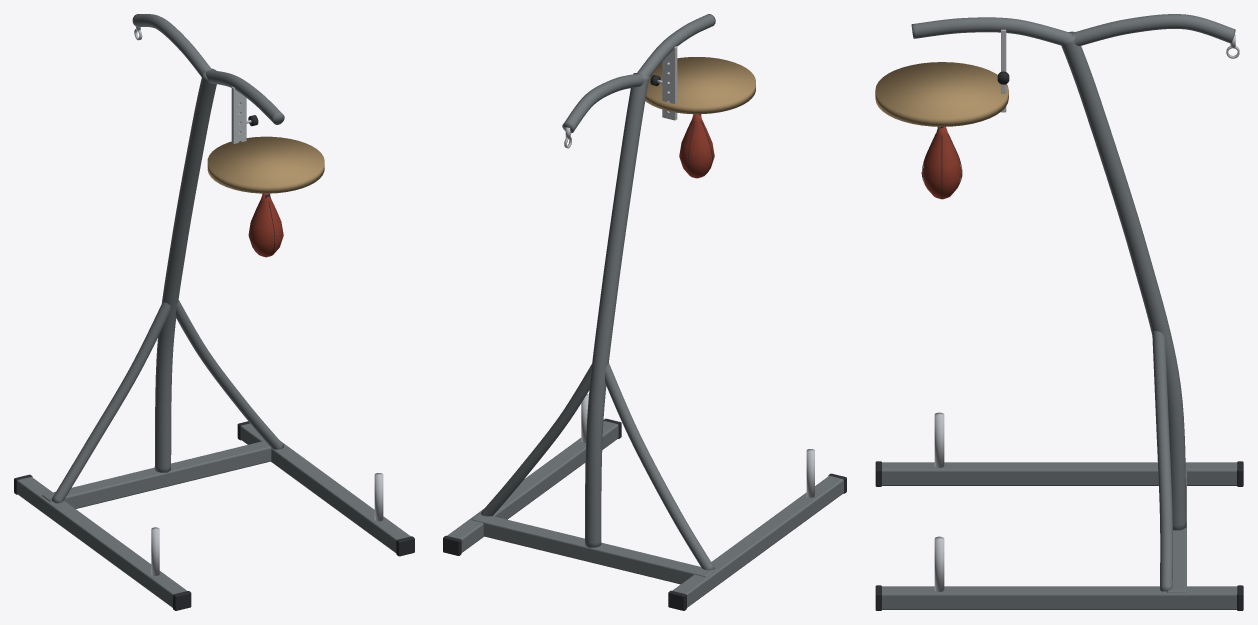
Rendered from full.glb.
The picture shows the model from 3 angles, left to right: view 1: azimuth 30°, elevation 25°; view 2: azimuth 150°, elevation 25°; view 3: azimuth 270°, elevation 25°; orthographic projection. The views are drawn at different scales.
Parts seen in each view (by area): view 1: Tall curved central column, Horizontal round speed platform, Rear Ubase crossfoot, Long Ubase foot -1, Long Ubase foot 1, Curved lower brace -1, Curved lower brace 1, Pear speedbag closed body, Upper rear curved arm, Upper forward curved arm, Perforated height adjustment strip; view 2: Tall curved central column, Rear Ubase crossfoot, Horizontal round speed platform, Long Ubase foot -1, Long Ubase foot 1, Curved lower brace -1, Curved lower brace 1, Pear speedbag closed body, Upper rear curved arm, Upper forward curved arm, Perforated height adjustment strip; view 3: Tall curved central column, Long Ubase foot 1, Long Ubase foot -1, Horizontal round speed platform, Curved lower brace 1, Upper rear curved arm, Upper forward curved arm, Pear speedbag closed body, Rear Ubase crossfoot, Vertical weight peg -1, Vertical weight peg 1.
Boxes of the visible parts, x1=… form: Tall curved central column: x1=154, y1=68, x2=216, y2=472; Horizontal round speed platform: x1=207, y1=136, x2=324, y2=193; Rear Ubase crossfoot: x1=42, y1=440, x2=271, y2=508; Long Ubase foot -1: x1=17, y1=477, x2=186, y2=607; Long Ubase foot 1: x1=240, y1=423, x2=410, y2=552; Curved lower brace -1: x1=51, y1=302, x2=170, y2=503; Curved lower brace 1: x1=176, y1=300, x2=283, y2=449; Pear speedbag closed body: x1=248, y1=193, x2=283, y2=257; Upper rear curved arm: x1=132, y1=14, x2=211, y2=76; Upper forward curved arm: x1=205, y1=70, x2=284, y2=124; Perforated height adjustment strip: x1=231, y1=86, x2=246, y2=143; Tall curved central column: x1=584, y1=73, x2=649, y2=547; Rear Ubase crossfoot: x1=471, y1=513, x2=714, y2=584; Horizontal round speed platform: x1=645, y1=57, x2=755, y2=114; Long Ubase foot -1: x1=672, y1=476, x2=843, y2=607; Long Ubase foot 1: x1=447, y1=421, x2=618, y2=552; Curved lower brace -1: x1=605, y1=363, x2=714, y2=570; Curved lower brace 1: x1=480, y1=364, x2=591, y2=516; Pear speedbag closed body: x1=679, y1=114, x2=714, y2=178; Upper rear curved arm: x1=562, y1=73, x2=643, y2=133; Upper forward curved arm: x1=636, y1=14, x2=715, y2=77; Perforated height adjustment strip: x1=662, y1=46, x2=677, y2=120; Tall curved central column: x1=1061, y1=31, x2=1186, y2=530; Long Ubase foot 1: x1=882, y1=586, x2=1237, y2=609; Long Ubase foot -1: x1=882, y1=462, x2=1237, y2=485; Horizontal round speed platform: x1=875, y1=62, x2=1008, y2=126; Curved lower brace 1: x1=1152, y1=331, x2=1172, y2=591; Upper rear curved arm: x1=1071, y1=14, x2=1235, y2=45; Upper forward curved arm: x1=911, y1=17, x2=1071, y2=45; Pear speedbag closed body: x1=922, y1=126, x2=961, y2=199; Rear Ubase crossfoot: x1=1167, y1=462, x2=1186, y2=592; Vertical weight peg -1: x1=934, y1=412, x2=944, y2=467; Vertical weight peg 1: x1=934, y1=536, x2=944, y2=591.
Size of the model in its own units: 1.18 by 2.19 by 1.38.
